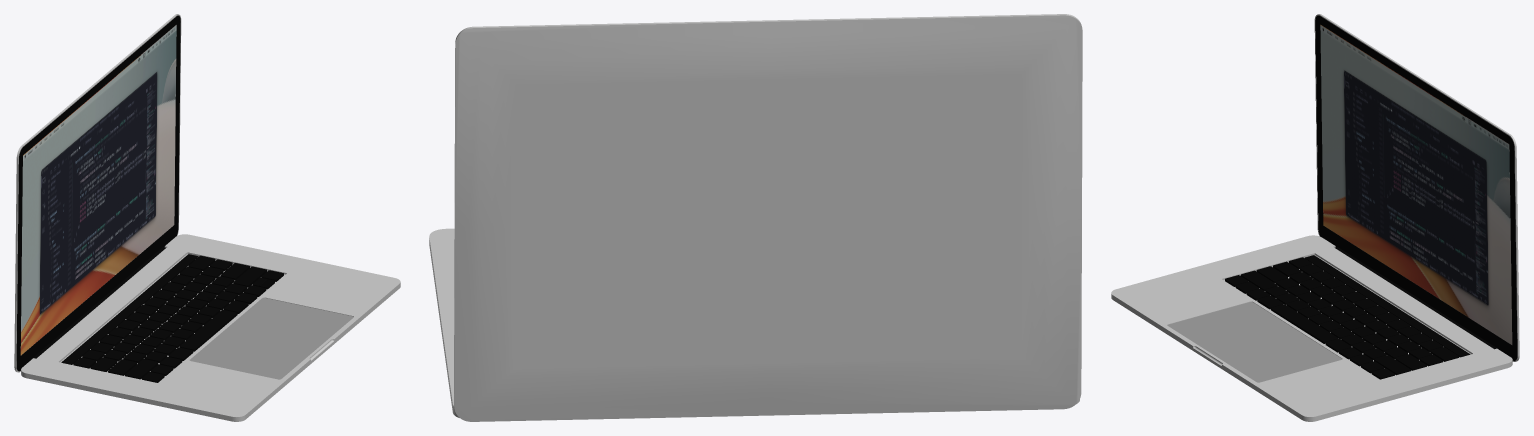
The model's file is conversational design.glb.
The picture shows the model from 3 angles, left to right: view 1: azimuth 30°, elevation 25°; view 2: azimuth 150°, elevation 25°; view 3: azimuth 270°, elevation 25°; orthographic projection. The views are drawn at different scales.
Parts seen in each view (by area): view 1: screen; view 2: screen; view 3: screen.
Part boxes in pixels (x1=…): screen: x1=14, y1=14, x2=400, y2=421; screen: x1=429, y1=14, x2=1082, y2=421; screen: x1=1111, y1=14, x2=1519, y2=421.
Size of the model in its own units: 1.06 by 0.6193 by 0.9876.
6 materials, 1 textured.
